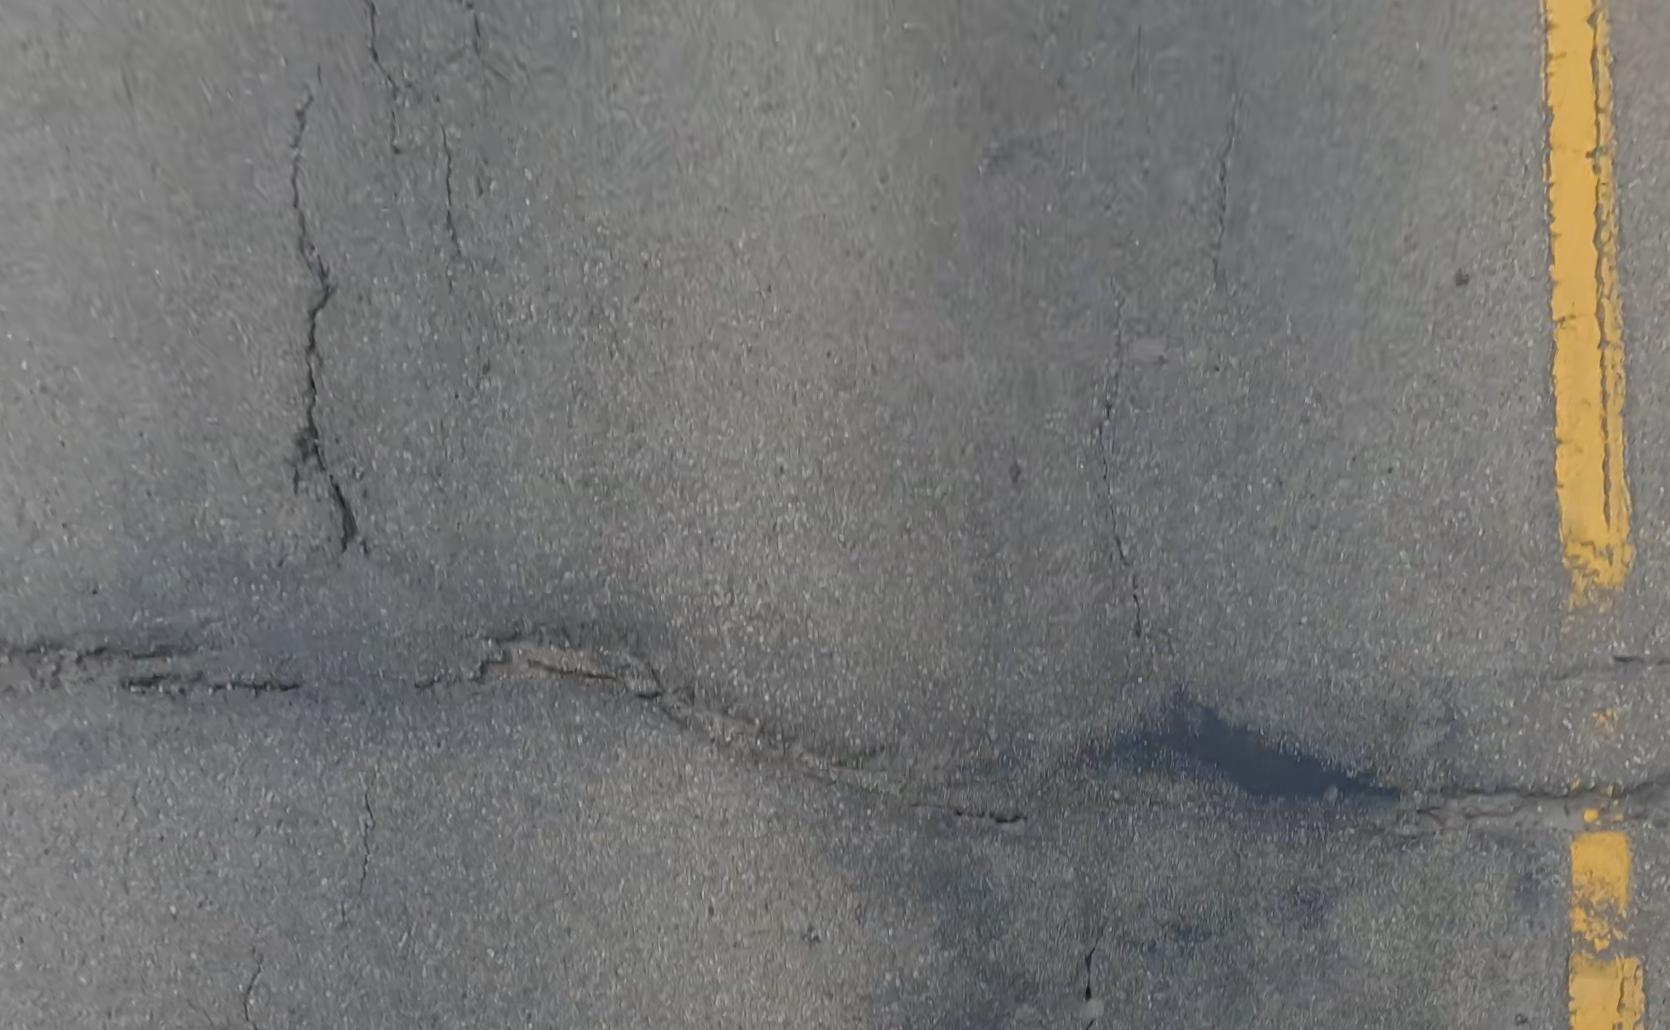pothole_patch_good: (1065, 691, 1412, 810)
pothole_patch_poor: (0, 544, 679, 791)
